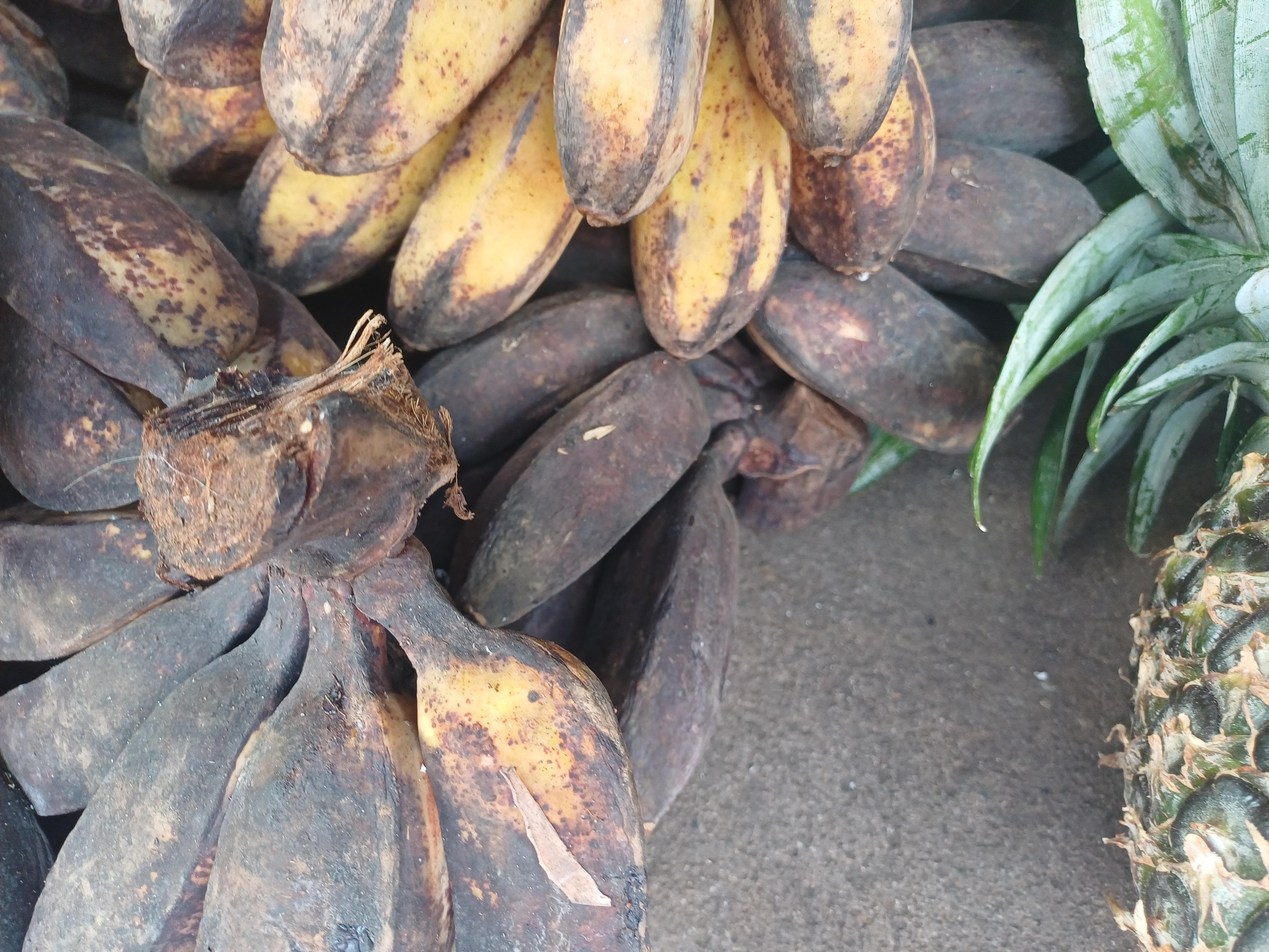overripe: (0, 117, 650, 952), (409, 287, 742, 839), (744, 0, 1107, 455)
ripe: (117, 0, 937, 359)
